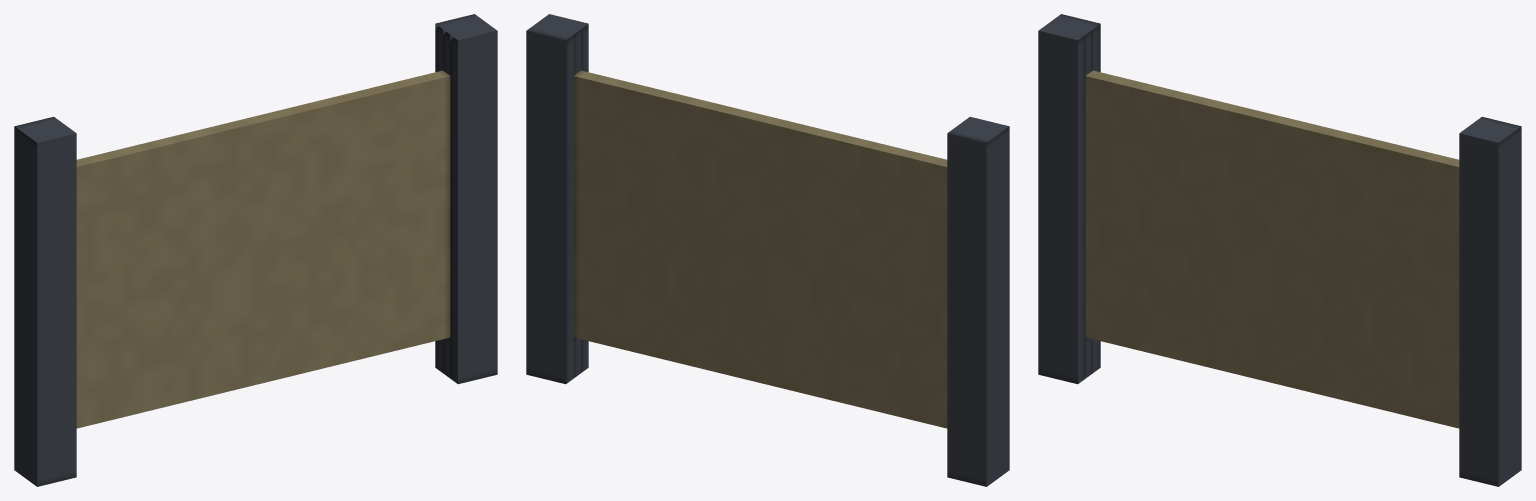
File: plot_most_1.dae
3 renders of one model, left to right at view 1: azimuth 30°, elevation 25°; view 2: azimuth 150°, elevation 25°; view 3: azimuth 330°, elevation 25°, orthographic.
Visible parts, largest first — view 1: Content; view 2: Content; view 3: Content.
Part boxes in pixels (x1=…): Content: x1=14, y1=14, x2=497, y2=486; Content: x1=526, y1=14, x2=1009, y2=486; Content: x1=1038, y1=14, x2=1521, y2=486.
Size of the model in its own units: 35 by 25 by 3.
Materials: 1 (1 with a texture image).
